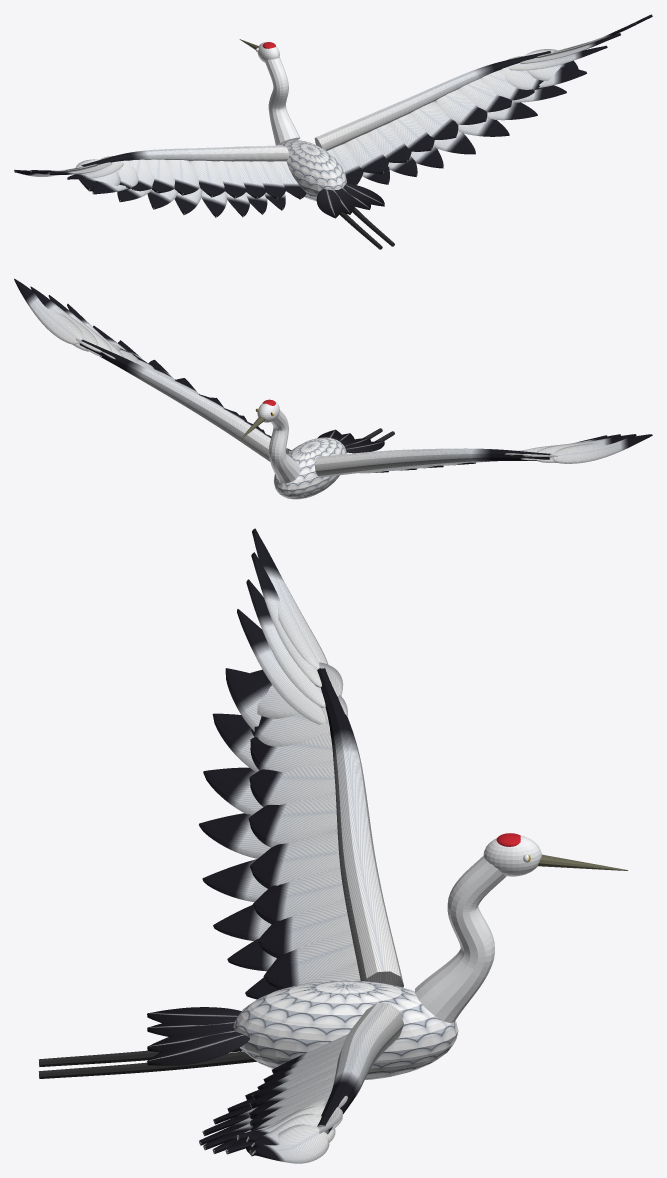
Rendered from 3_Crane.obj.
3 renders of one model, top to bottom at view 1: azimuth 30°, elevation 25°; view 2: azimuth 150°, elevation 25°; view 3: azimuth 270°, elevation 25°, orthographic. The views are drawn at different scales.
Parts seen in each view (by area): view 1: WingR, WingL, Body, Head, Tail, Legs; view 2: WingR, WingL, Body, Head, Tail; view 3: WingL, WingR, Body, Head, Tail, Legs.
Boxes of the visible parts, left/top/right/bottom form: WingR: left=314, top=14, right=652, bottom=185; WingL: left=14, top=145, right=306, bottom=217; Body: left=280, top=140, right=346, bottom=200; Head: left=257, top=42, right=300, bottom=145; Tail: left=316, top=183, right=384, bottom=218; Legs: left=339, top=207, right=394, bottom=249; WingR: left=14, top=278, right=291, bottom=461; WingL: left=314, top=434, right=652, bottom=477; Body: left=274, top=437, right=346, bottom=499; Head: left=257, top=401, right=300, bottom=483; Tail: left=317, top=429, right=384, bottom=452; WingL: left=199, top=528, right=403, bottom=999; WingR: left=199, top=1003, right=403, bottom=1163; Body: left=233, top=980, right=458, bottom=1079; Head: left=415, top=835, right=541, bottom=1023; Tail: left=147, top=1007, right=249, bottom=1065; Legs: left=38, top=1047, right=256, bottom=1078.
Bounding box in the file's own units: 31.29 × 5.62 × 12.51.
9 materials, 9 textured.
